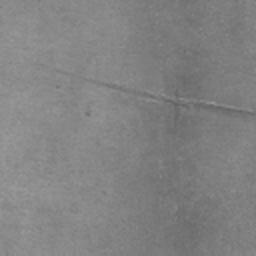Finishing roll printing: (60, 67, 256, 116)
